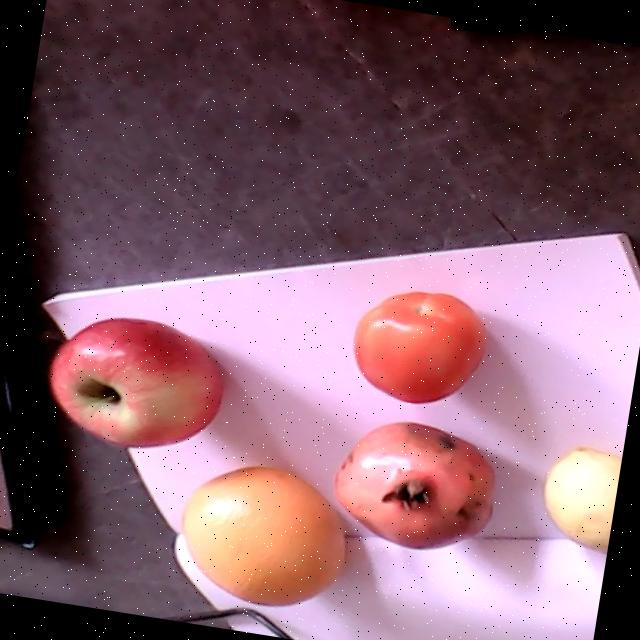apple: (48, 317, 224, 447)
lemon: (545, 446, 621, 553)
orange: (184, 465, 346, 606)
pomegranate: (333, 421, 495, 549)
tomato: (354, 291, 487, 404)
